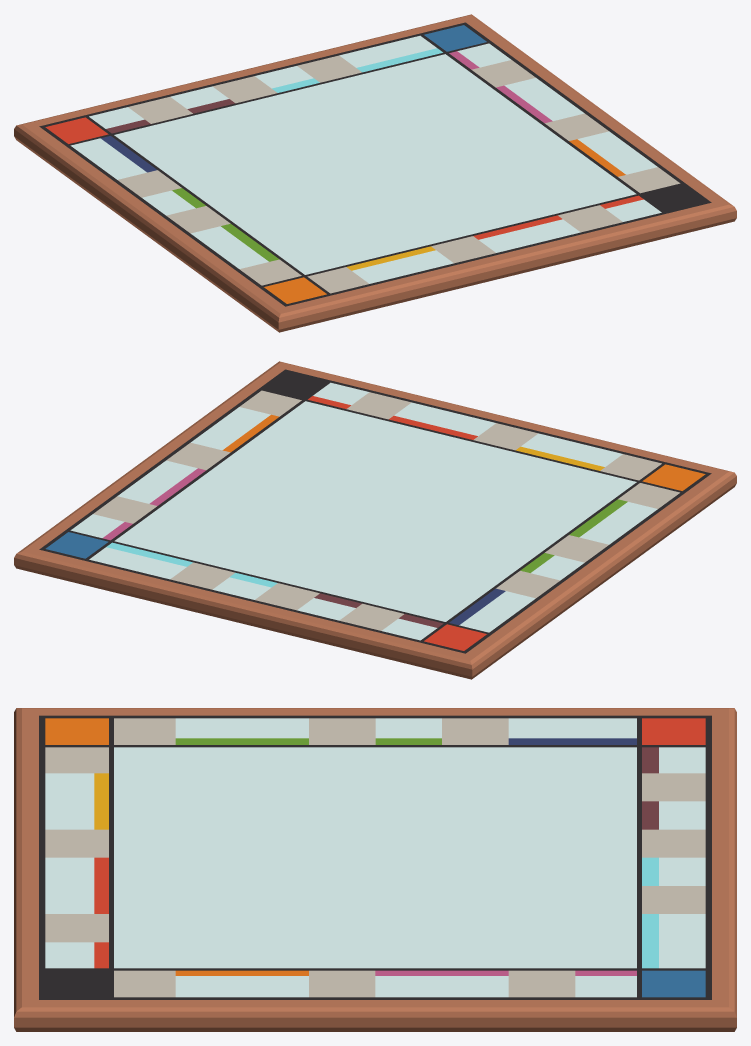
The model's file is board.fbx.
The picture shows the model from 3 angles, top to bottom: view 1: azimuth 30°, elevation 25°; view 2: azimuth 150°, elevation 25°; view 3: azimuth 270°, elevation 25°; orthographic projection. The views are drawn at different scales.
Parts seen in each view (by area): view 1: BoardSquares; view 2: BoardSquares; view 3: BoardSquares.
Boxes of the visible parts, x1,y1,x2,y2 form: BoardSquares: [14, 14, 736, 332]; BoardSquares: [14, 361, 736, 679]; BoardSquares: [14, 708, 736, 1031].
Size of the model in its own units: 1116 by 41.5 by 1116.
